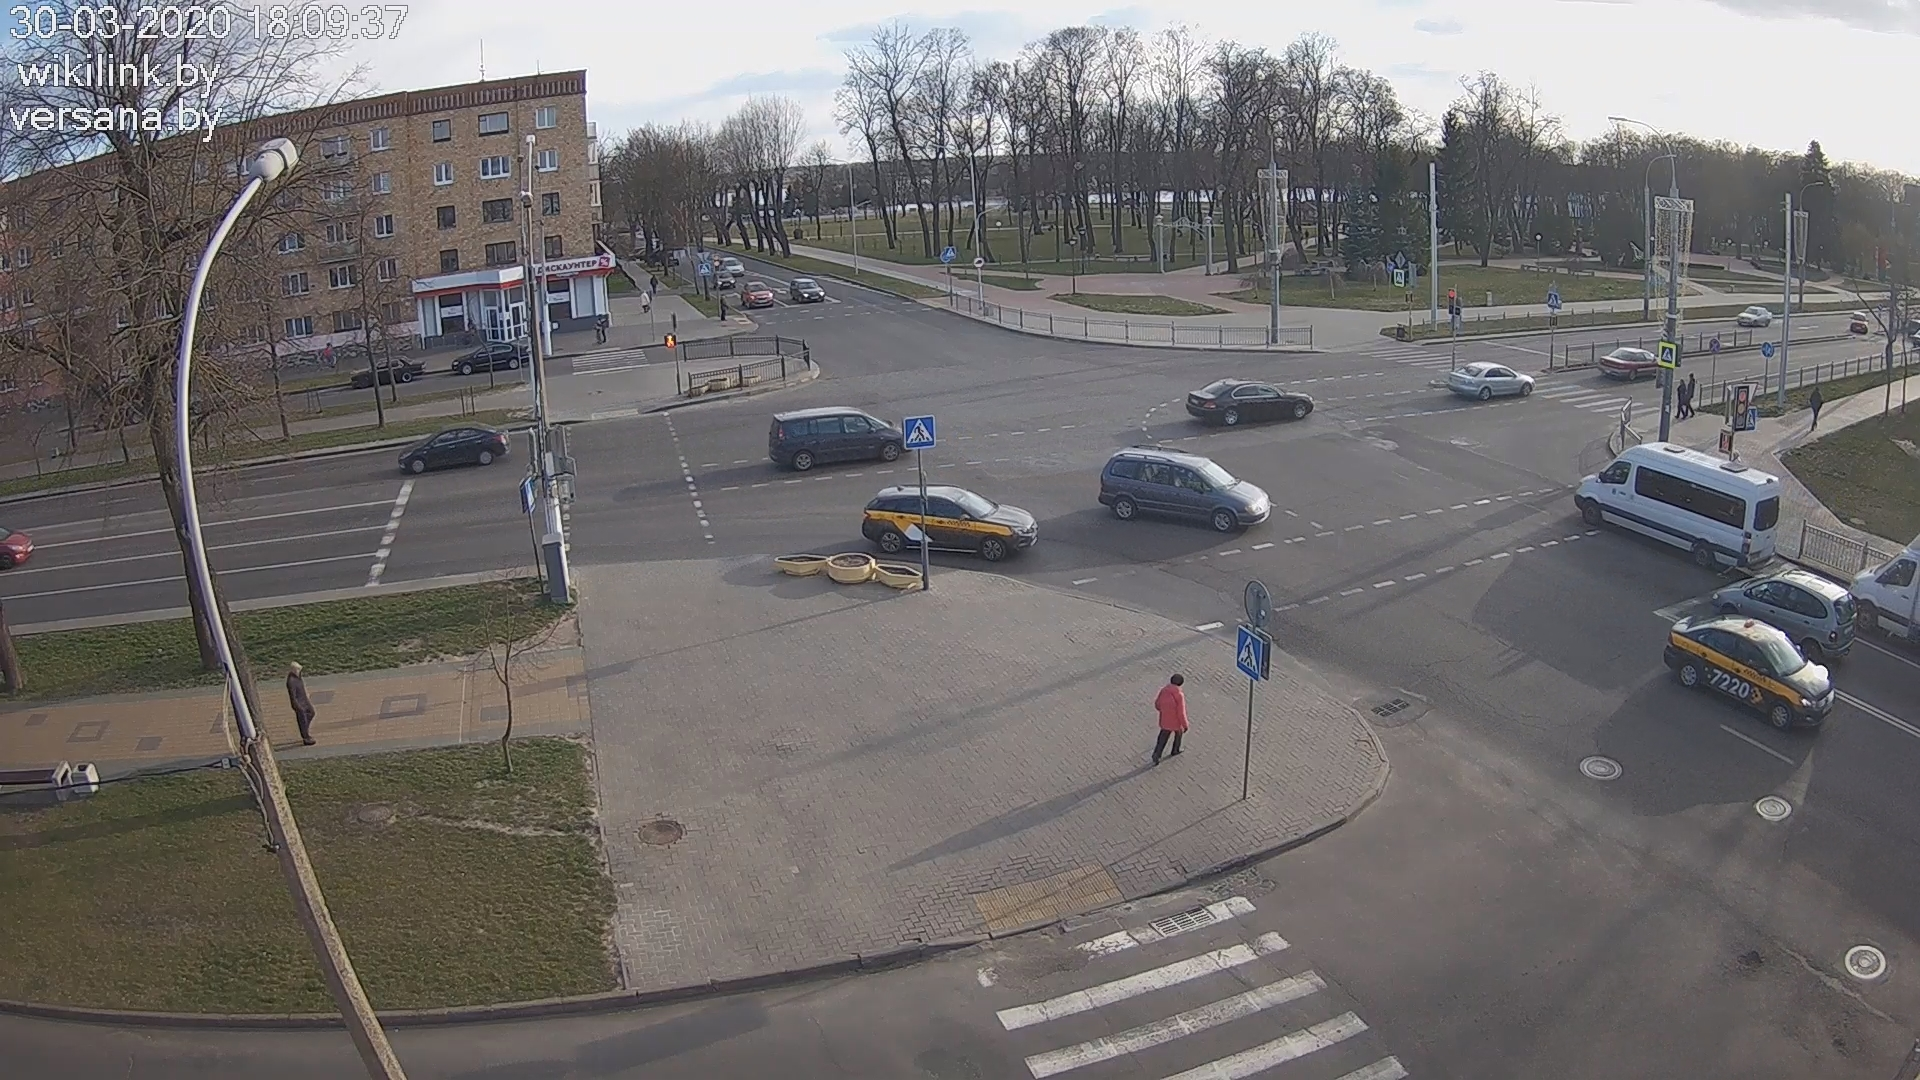car: (1575, 442, 1779, 572), (1664, 613, 1836, 731), (1098, 444, 1271, 534), (862, 483, 1039, 562), (1712, 568, 1859, 661), (769, 407, 906, 469), (1185, 376, 1313, 426), (398, 421, 510, 475), (1448, 361, 1536, 401), (349, 355, 426, 389), (451, 342, 529, 375), (1598, 348, 1659, 381), (741, 280, 774, 309), (790, 277, 825, 303), (715, 272, 736, 290)
